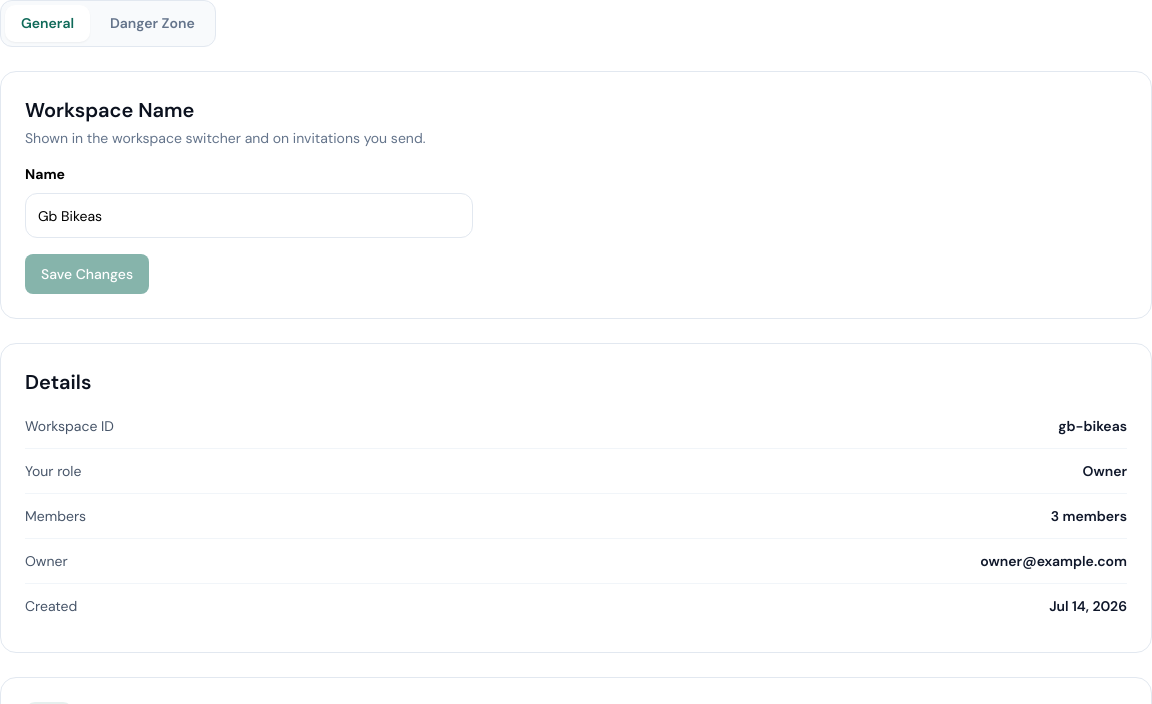
Test: general tab › will not save a blank name
Clear the field showing "Gb Bikeas" at (249, 216), box [25, 193, 473, 238]
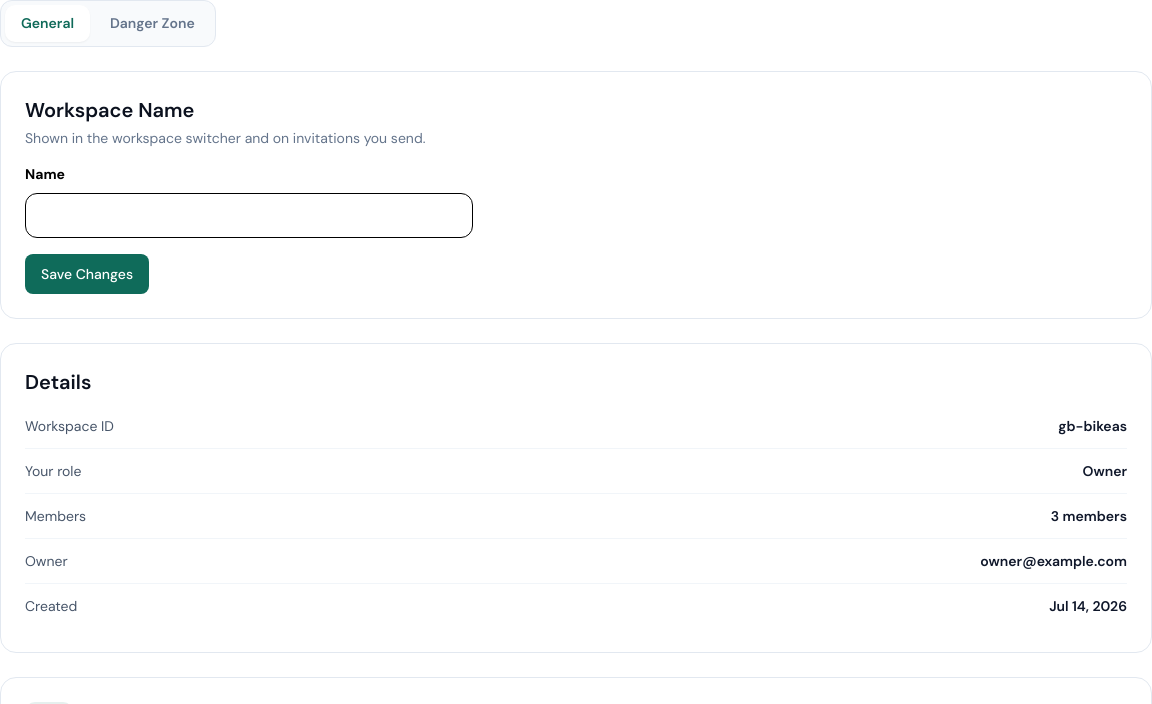
Click the button "Save Changes".
click(87, 274)  # box [25, 254, 149, 294]
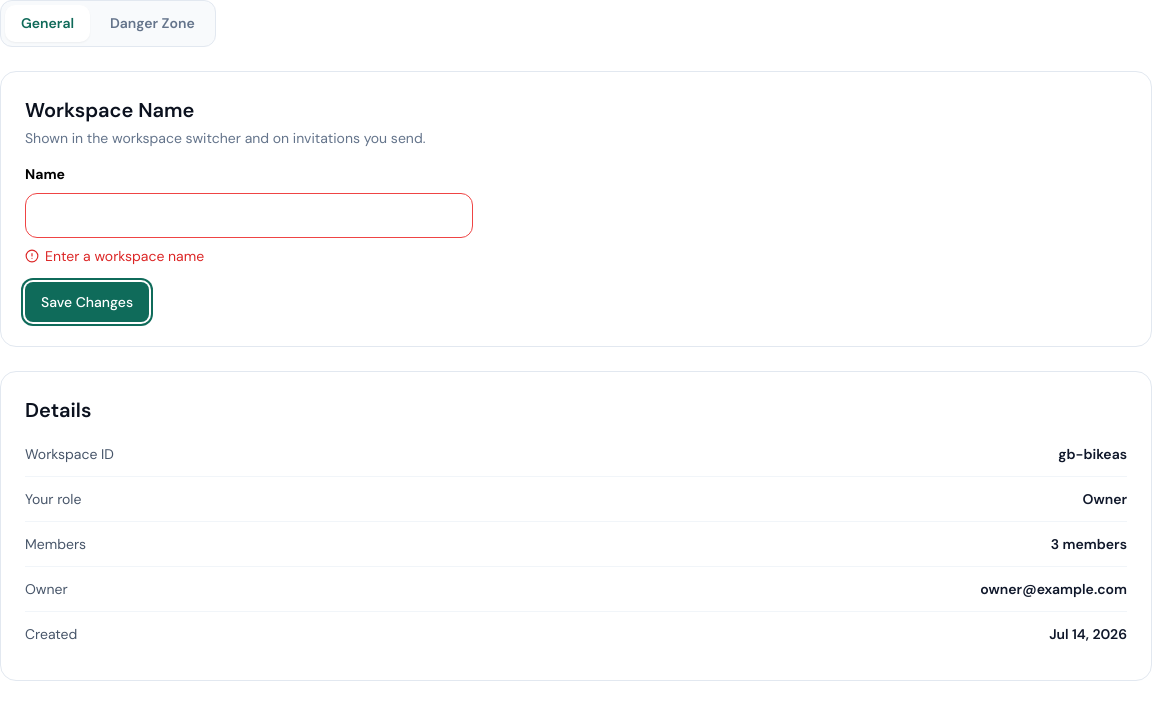
Now the text "Enter a workspace name" is shown, box [25, 247, 204, 265]
